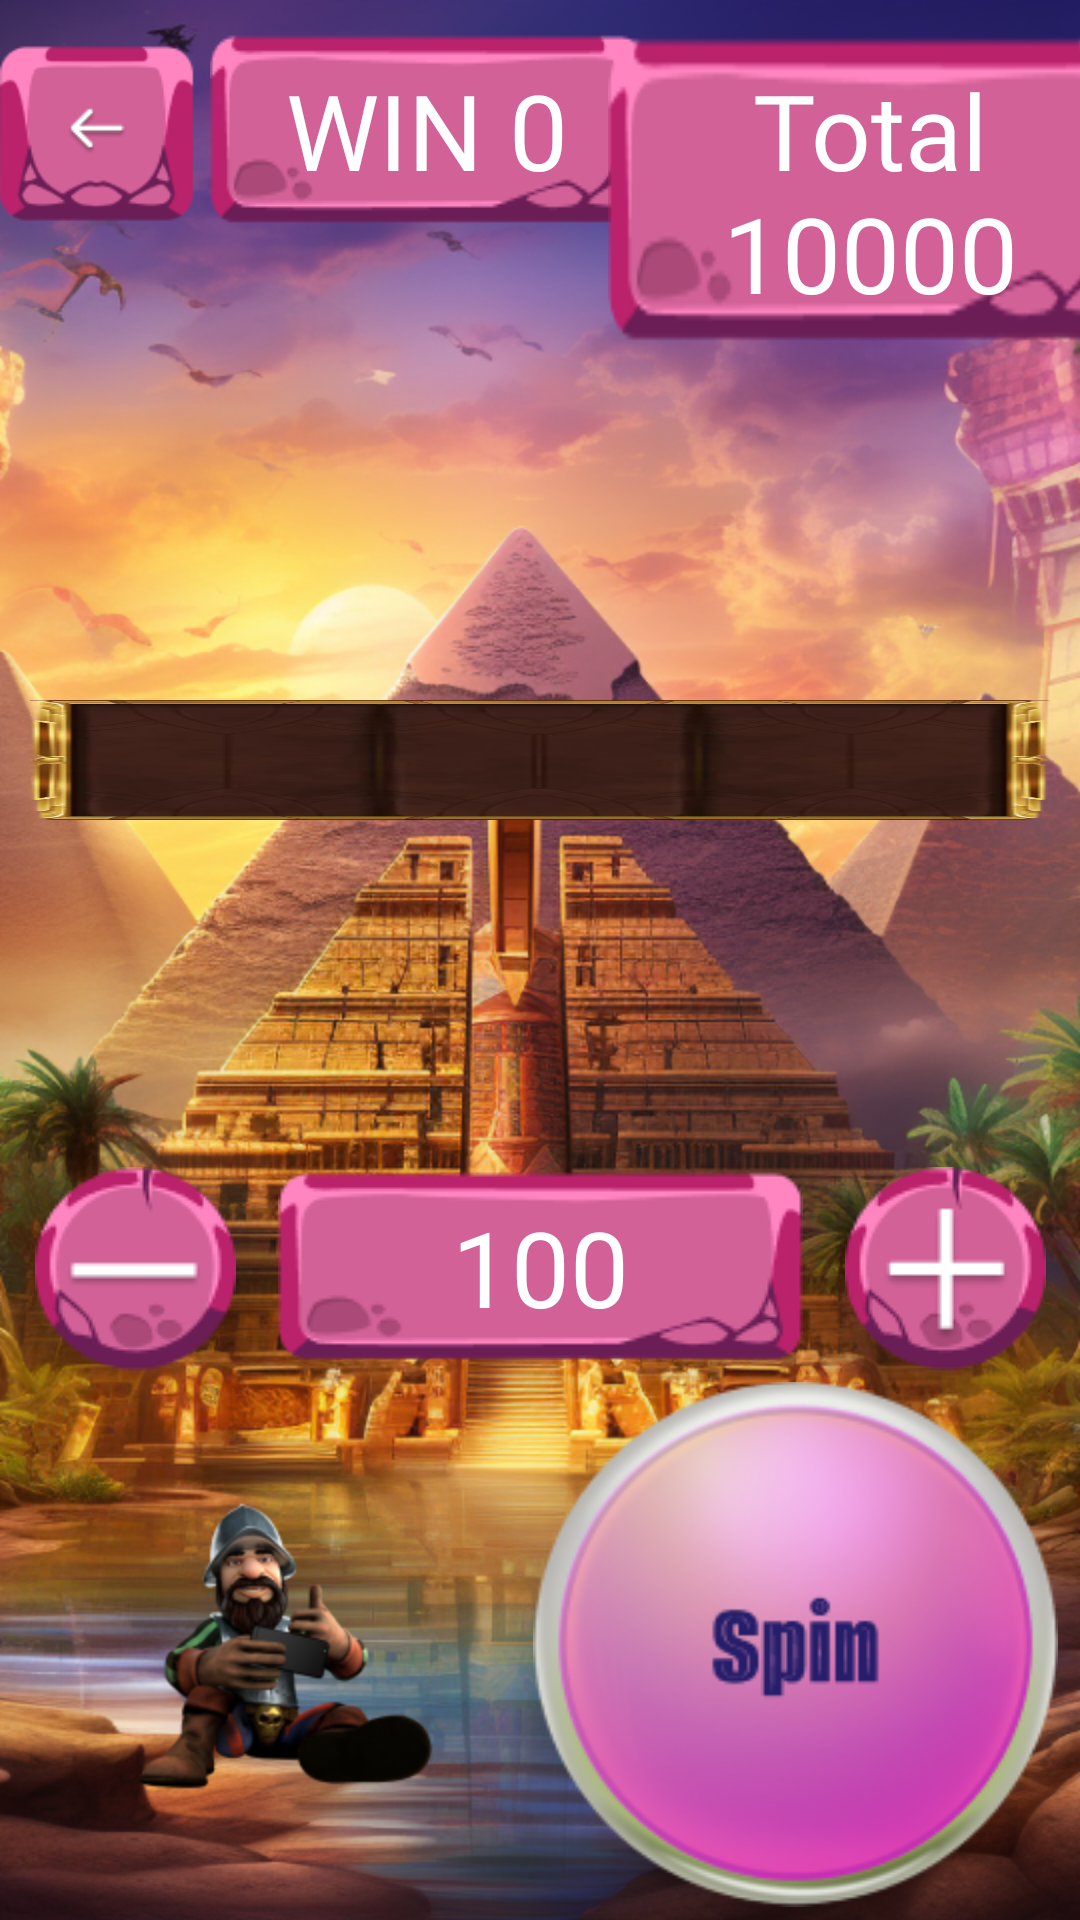

Point at icon controls on the screen. Image size 1080*1920, points as (x=x, y=y).
back: (x=97, y=133)
minus: (x=135, y=1269)
plus: (x=945, y=1269)
